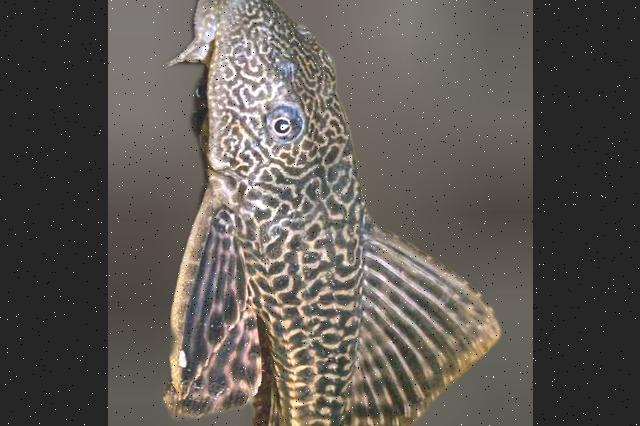Sirip Dada: (154, 173, 264, 414)
Sirip Perut: (252, 381, 295, 426)
Sirip Punggung: (326, 217, 514, 426)
